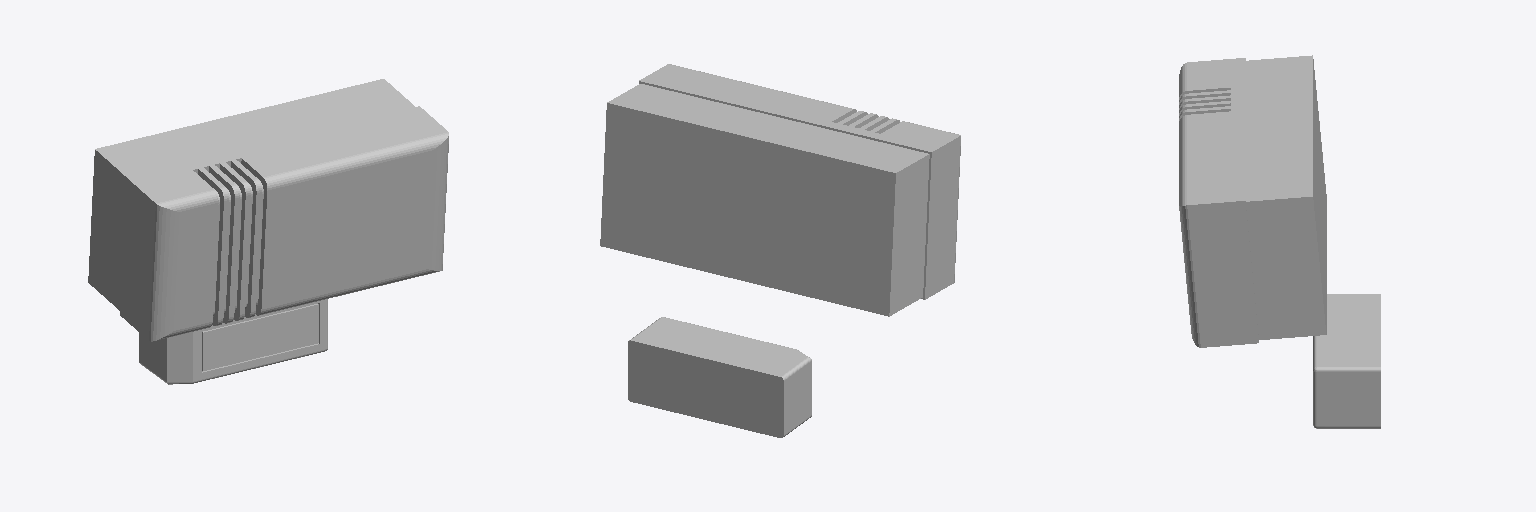
The model's file is DullBrownObjects.obj.
3 renders of one model, left to right at view 1: azimuth 30°, elevation 25°; view 2: azimuth 150°, elevation 25°; view 3: azimuth 270°, elevation 25°, orthographic.
Visible parts, largest first — view 1: DullBrownObjects; view 2: DullBrownObjects; view 3: DullBrownObjects.
Part boxes in pixels (x1,y1,x2,y2): DullBrownObjects: (88, 79, 448, 384); DullBrownObjects: (600, 64, 960, 437); DullBrownObjects: (1179, 55, 1380, 428).
Size of the model in its own units: 0.3 by 0.2544 by 0.1791.